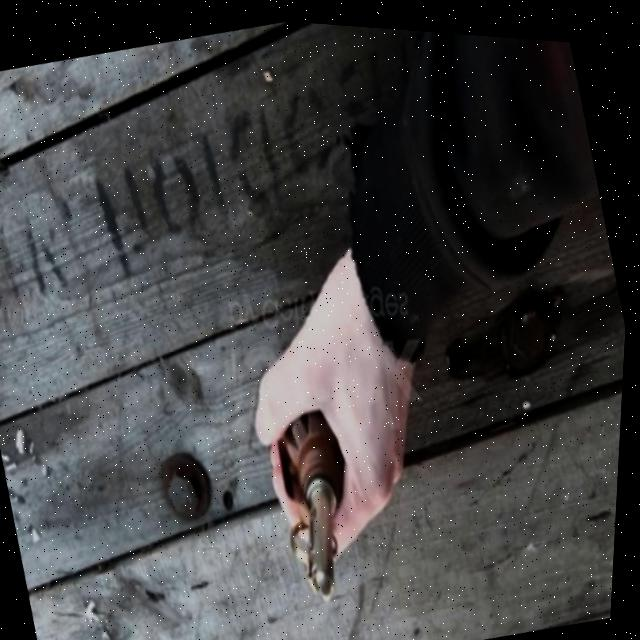grenade: (250, 392, 394, 621)
